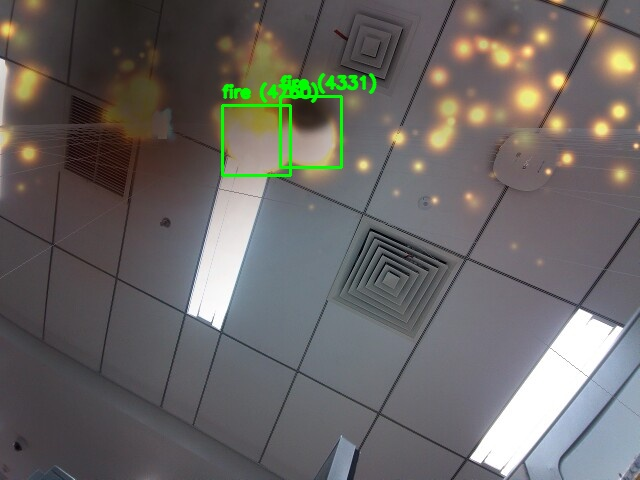fire: (222, 105, 290, 175), (280, 96, 341, 167)
